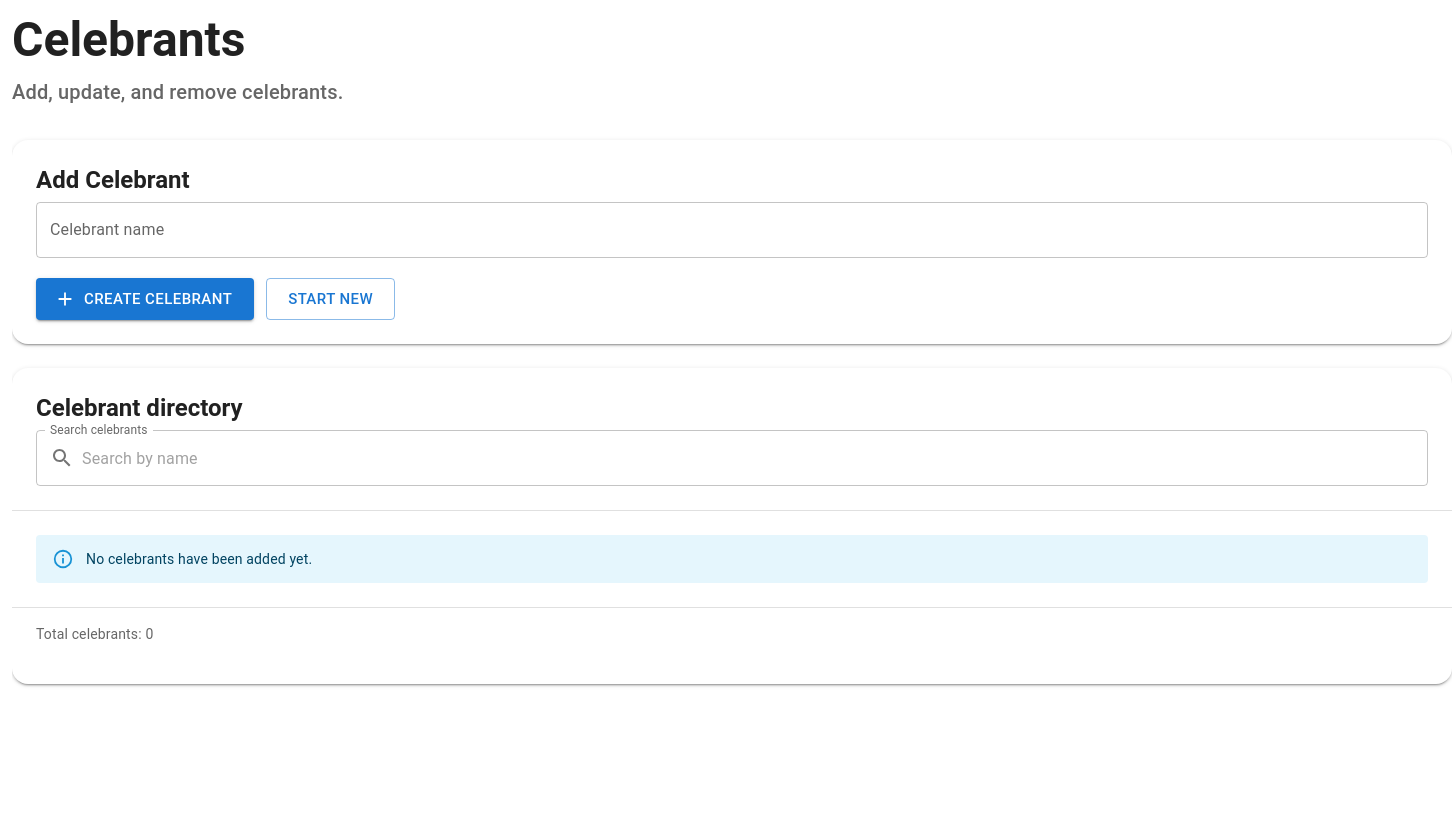
Scenario: CelebrantManagementPage › creates a celebrant and returns the form to create mode
Expected: the text "No celebrants have been added yet." is shown, [86, 551, 312, 567]
Type "Rev. Solis" into the field labelled "Celebrant name". click: (732, 230)
box: [36, 202, 1428, 258]
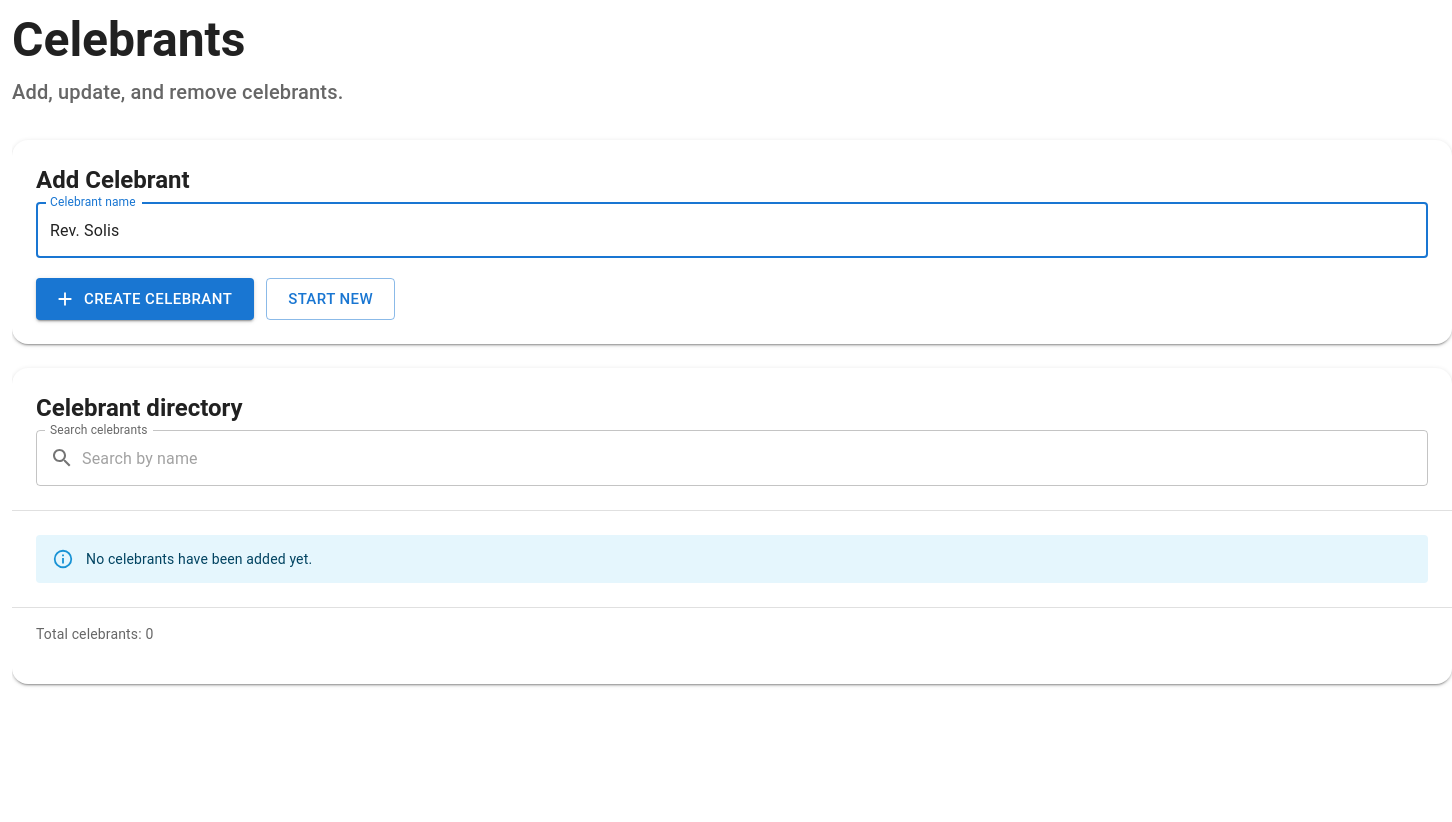
Click the button "Create Celebrant". click: (145, 299)
box: [36, 278, 254, 320]
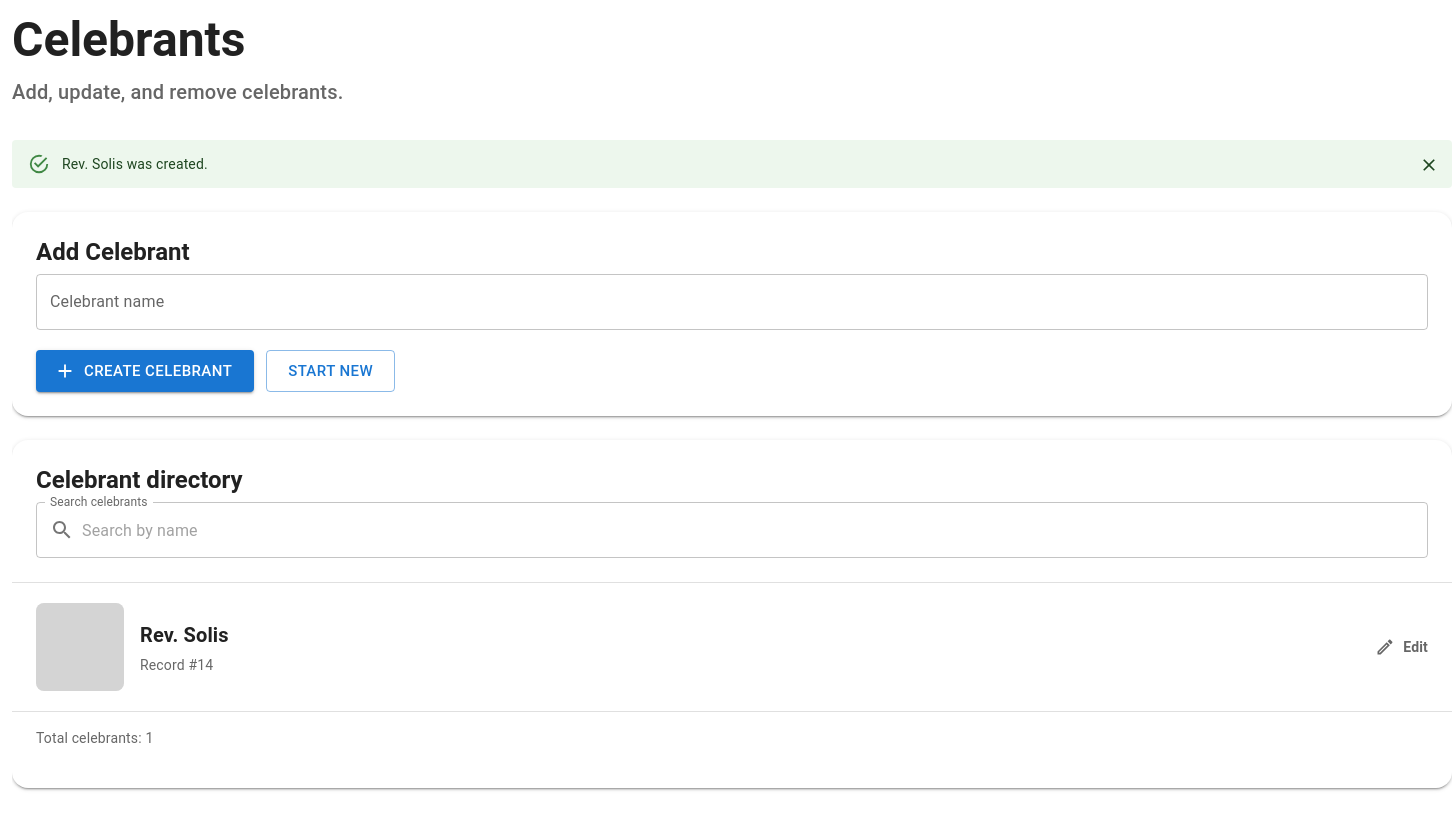
Expected: the text "Rev. Solis was created." is shown, [62, 156, 208, 172]
Expected: the button "Rev. Solis Record #14 Edit" is shown, [12, 583, 1451, 711]
Expected: the field labelled "Celebrant name" is empty, [36, 274, 1428, 330]
